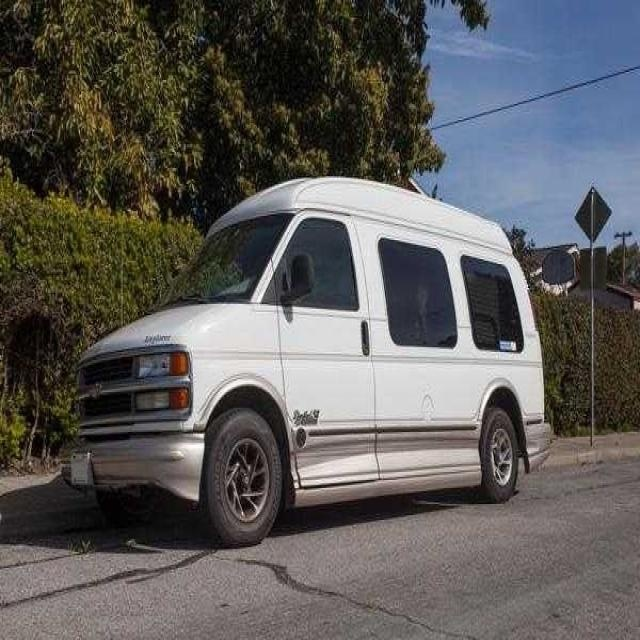Van: (74, 168, 557, 544)
